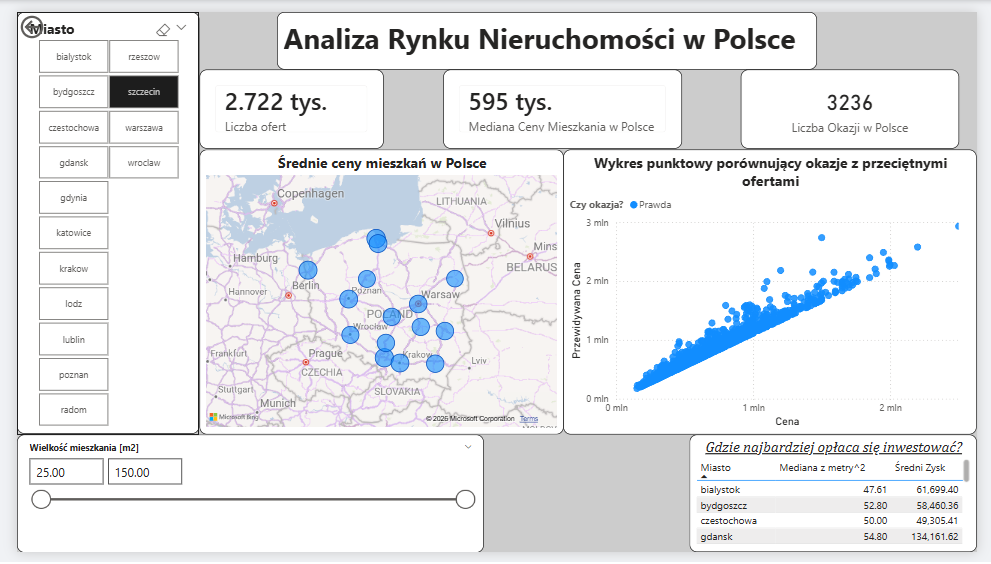

The dashboard page shown, as its layout file describes it:
{"tool":"powerbi","page":{"name":"Front screen","canvas":[1280,720],"ordinal":0},"visuals":[{"type":"slicer","fields":{"Values":["apartments_final_with_predictions.city"]},"box":[0,0,243,562.8],"z":0},{"type":"slicer","fields":{"Values":["apartments_final_with_predictions.squareMeters"]},"box":[0,562.8,622.8,157.4],"z":1000},{"type":"tableEx","title":"Gdzie najbardziej opłaca się inwestować?","fields":{"Values":["apartments_final_with_predictions.city","Median(apartments_final_with_predictions.squareMeters)","Avg(apartments_final_with_predictions.Price_Diff)"]},"box":[897.1,562.9,382.9,157.1],"z":2000},{"type":"scatterChart","title":"Wykres punktowy porównujący okazje z przeciętnymi ofertami","fields":{"X":["apartments_final_with_predictions.price"],"Y":["apartments_final_with_predictions.Predicted_Price"],"Series":["apartments_final_with_predictions.Is_Deal"]},"box":[728.6,182.9,551.4,380],"z":3000},{"type":"textbox","box":[347.1,0,720,77.1],"z":4000},{"type":"cardVisual","fields":{"Data":["Count(apartments_final_with_predictions.id)"]},"box":[242.9,77.1,245.7,105.7],"z":5000},{"type":"map","title":"Średnie ceny mieszkań w Polsce","fields":{"Size":["Avg(apartments_final_with_predictions.Opportunity_Score)"],"Category":["apartments_final_with_predictions.city"]},"box":[242.9,182.9,485.7,380],"z":6000},{"type":"cardVisual","fields":{"Data":["Median(apartments_final_with_predictions.price)"]},"box":[568.6,77.1,318.6,105.7],"z":7000},{"type":"card","fields":{"Values":["CountNonNull(apartments_final_with_predictions.Is_Deal)"]},"box":[965.7,77.1,291.4,105.7],"z":8000},{"type":"actionButton","box":[0,0,100,40],"z":9000}]}

Visuals, with their boxes in screenshot pixels (x1, y1, x2, y2):
slicer - apartments_final_with_predictions.city: 13, 5, 198, 435
slicer - apartments_final_with_predictions.squareMeters: 13, 435, 488, 555
"Gdzie najbardziej opłaca się inwestować?" tableEx: 698, 435, 990, 555
"Wykres punktowy porównujący okazje z przeciętnymi ofertami" scatterChart: 569, 145, 990, 435
textbox: 278, 5, 828, 64
cardVisual - Count(apartments_final_with_predictions.id): 198, 64, 386, 145
"Średnie ceny mieszkań w Polsce" map: 198, 145, 569, 435
cardVisual - Median(apartments_final_with_predictions.price): 447, 64, 690, 145
card - CountNonNull(apartments_final_with_predictions.Is_Deal): 750, 64, 973, 145
actionButton: 13, 5, 89, 36
